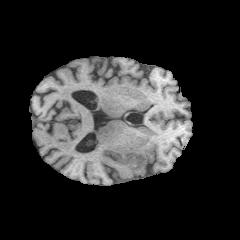glioma: (102, 145, 154, 172)
